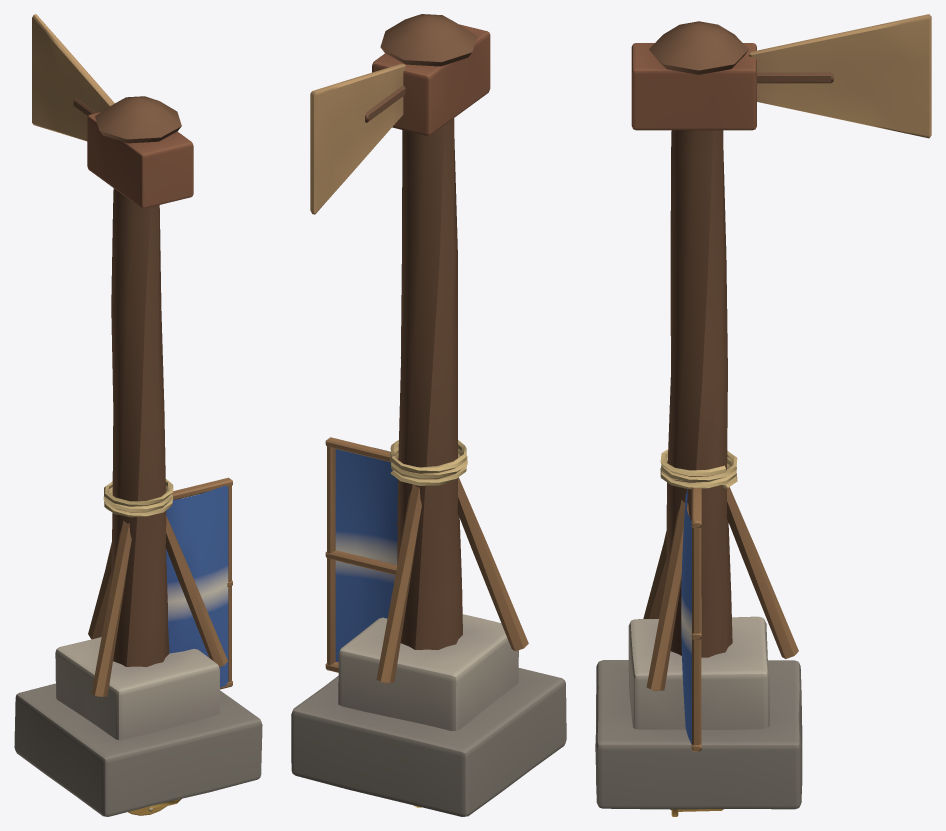
File: pr_windwheel.glb
The picture shows the model from 3 angles, left to right: view 1: azimuth 30°, elevation 25°; view 2: azimuth 150°, elevation 25°; view 3: azimuth 270°, elevation 25°; orthographic projection. The views are drawn at different scales.
Parts seen in each view (by area): view 1: PR_windwheel__body, PR_windwheel__armBlue; view 2: PR_windwheel__body, PR_windwheel__armBlue; view 3: PR_windwheel__body, PR_windwheel__armBlue.
Boxes of the visible parts, x1,y1,x2,y2 form: PR_windwheel__body: (14, 14, 262, 816); PR_windwheel__armBlue: (166, 477, 232, 689); PR_windwheel__body: (291, 14, 566, 816); PR_windwheel__armBlue: (325, 437, 398, 672); PR_windwheel__body: (595, 14, 931, 809); PR_windwheel__armBlue: (681, 487, 701, 751).
Bounding box in the file's own units: 0.9737 × 3.86 × 1.47.
